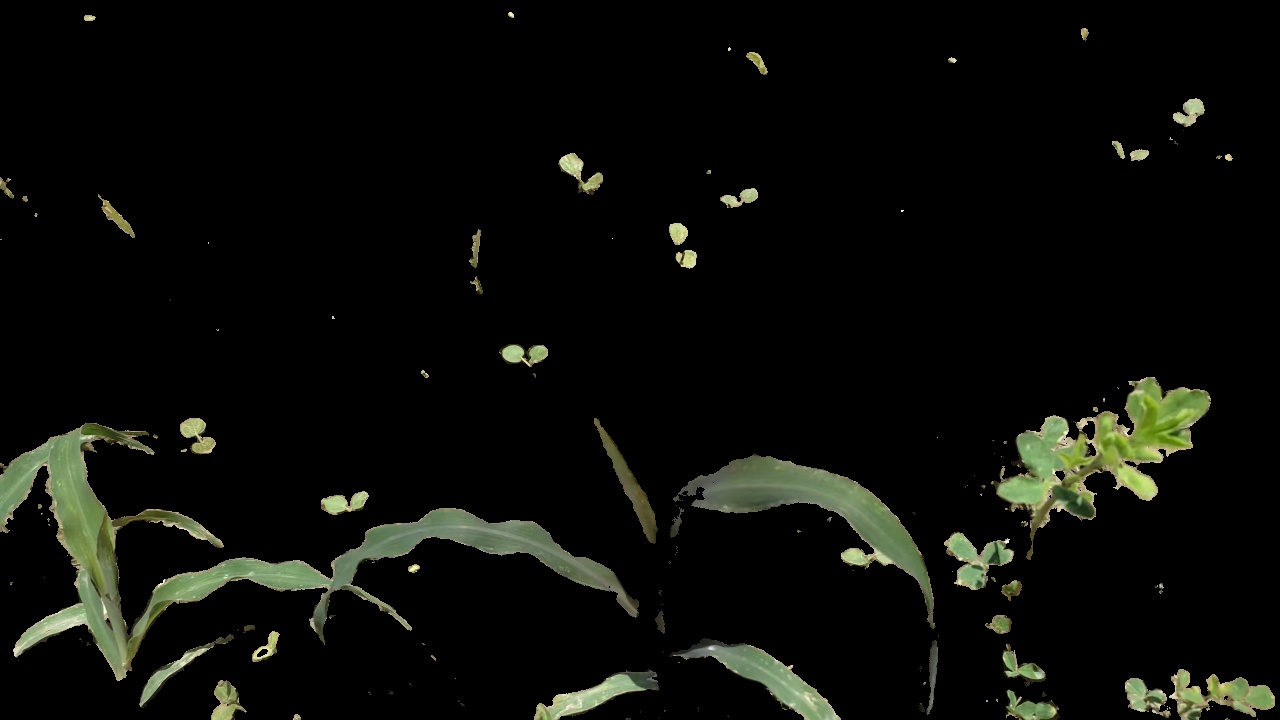crop: (456, 437, 936, 718), (1, 401, 367, 720)
weed: (1018, 382, 1200, 557), (937, 524, 1085, 720), (1119, 658, 1278, 720), (554, 140, 617, 204), (174, 414, 227, 460), (664, 209, 699, 272), (313, 485, 374, 517), (499, 336, 549, 374), (717, 177, 759, 217), (1109, 128, 1151, 162), (210, 680, 247, 716), (245, 630, 281, 666), (835, 539, 874, 571), (1171, 89, 1199, 128)
